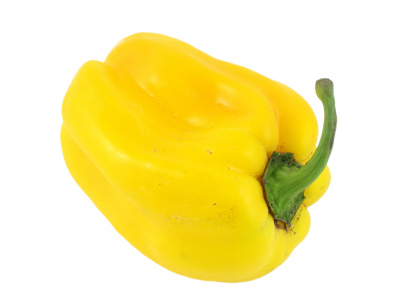capsicum: (60, 33, 337, 285)
